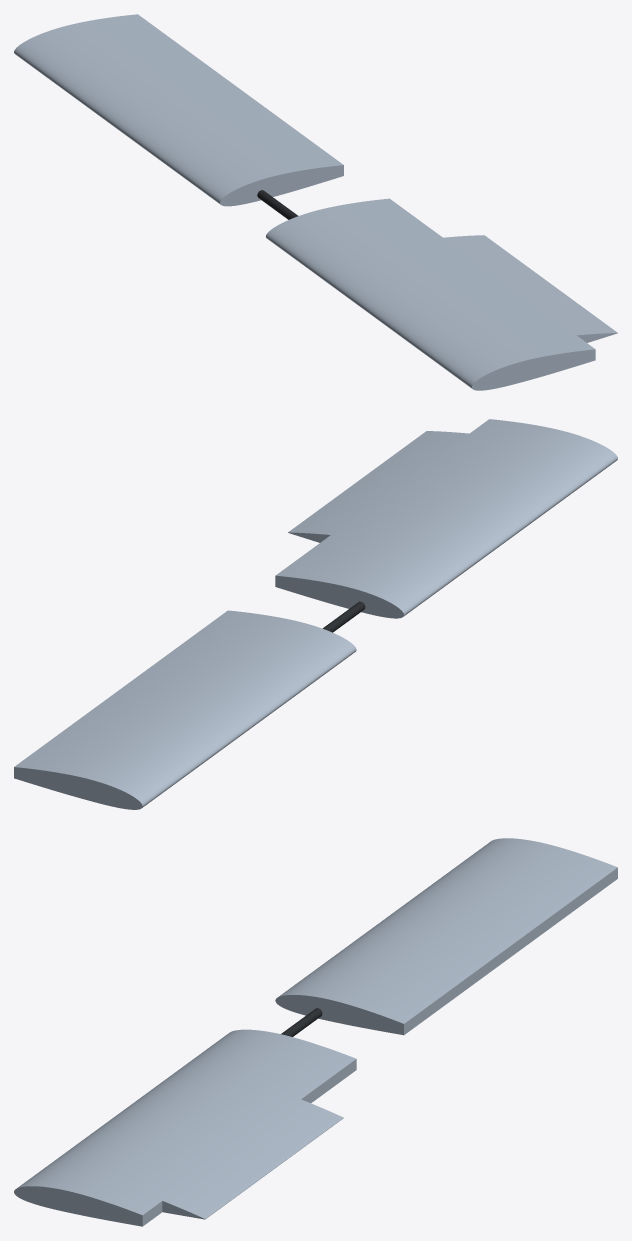
Rendered from ex_wing.glb.
3 views of the same model, one above another, from view 1: azimuth 30°, elevation 25°; view 2: azimuth 150°, elevation 25°; view 3: azimuth 330°, elevation 25° (orthographic). The views are drawn at different scales.
Visible parts, largest first — view 1: WNG-001, WNG-002, WNG-004; view 2: WNG-002, WNG-001, WNG-004; view 3: WNG-002, WNG-001, WNG-004.
Part boxes in pixels (x1,y1,x2,y2): WNG-001: [266, 198, 595, 390]; WNG-002: [14, 14, 343, 206]; WNG-004: [443, 235, 617, 342]; WNG-002: [14, 610, 356, 809]; WNG-001: [275, 419, 617, 618]; WNG-004: [288, 431, 468, 542]; WNG-002: [275, 838, 617, 1035]; WNG-001: [14, 1029, 356, 1226]; WNG-004: [162, 1099, 343, 1219].
Bounding box in the file's own units: 0.25 × 0.0304 × 1.2.
